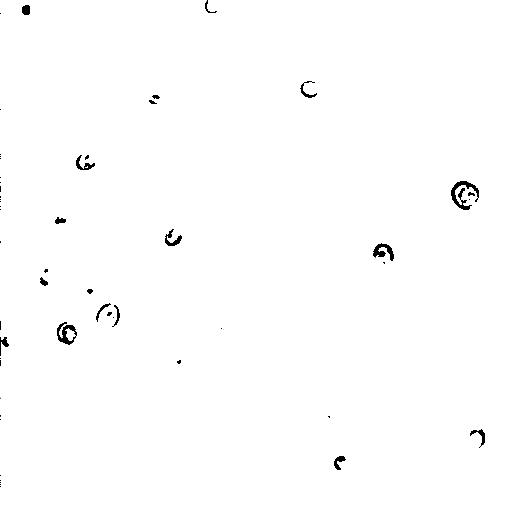micro-algae: (217, 211, 273, 265), (307, 0, 371, 26), (31, 257, 65, 292), (45, 200, 81, 233), (7, 0, 42, 27), (450, 180, 482, 209), (1, 324, 23, 364), (95, 301, 120, 329), (75, 279, 103, 302), (54, 320, 79, 345), (371, 239, 394, 265), (169, 351, 194, 371), (467, 425, 487, 450), (75, 150, 97, 171), (300, 78, 319, 98), (165, 226, 185, 245), (203, 0, 226, 13), (333, 453, 349, 471)
